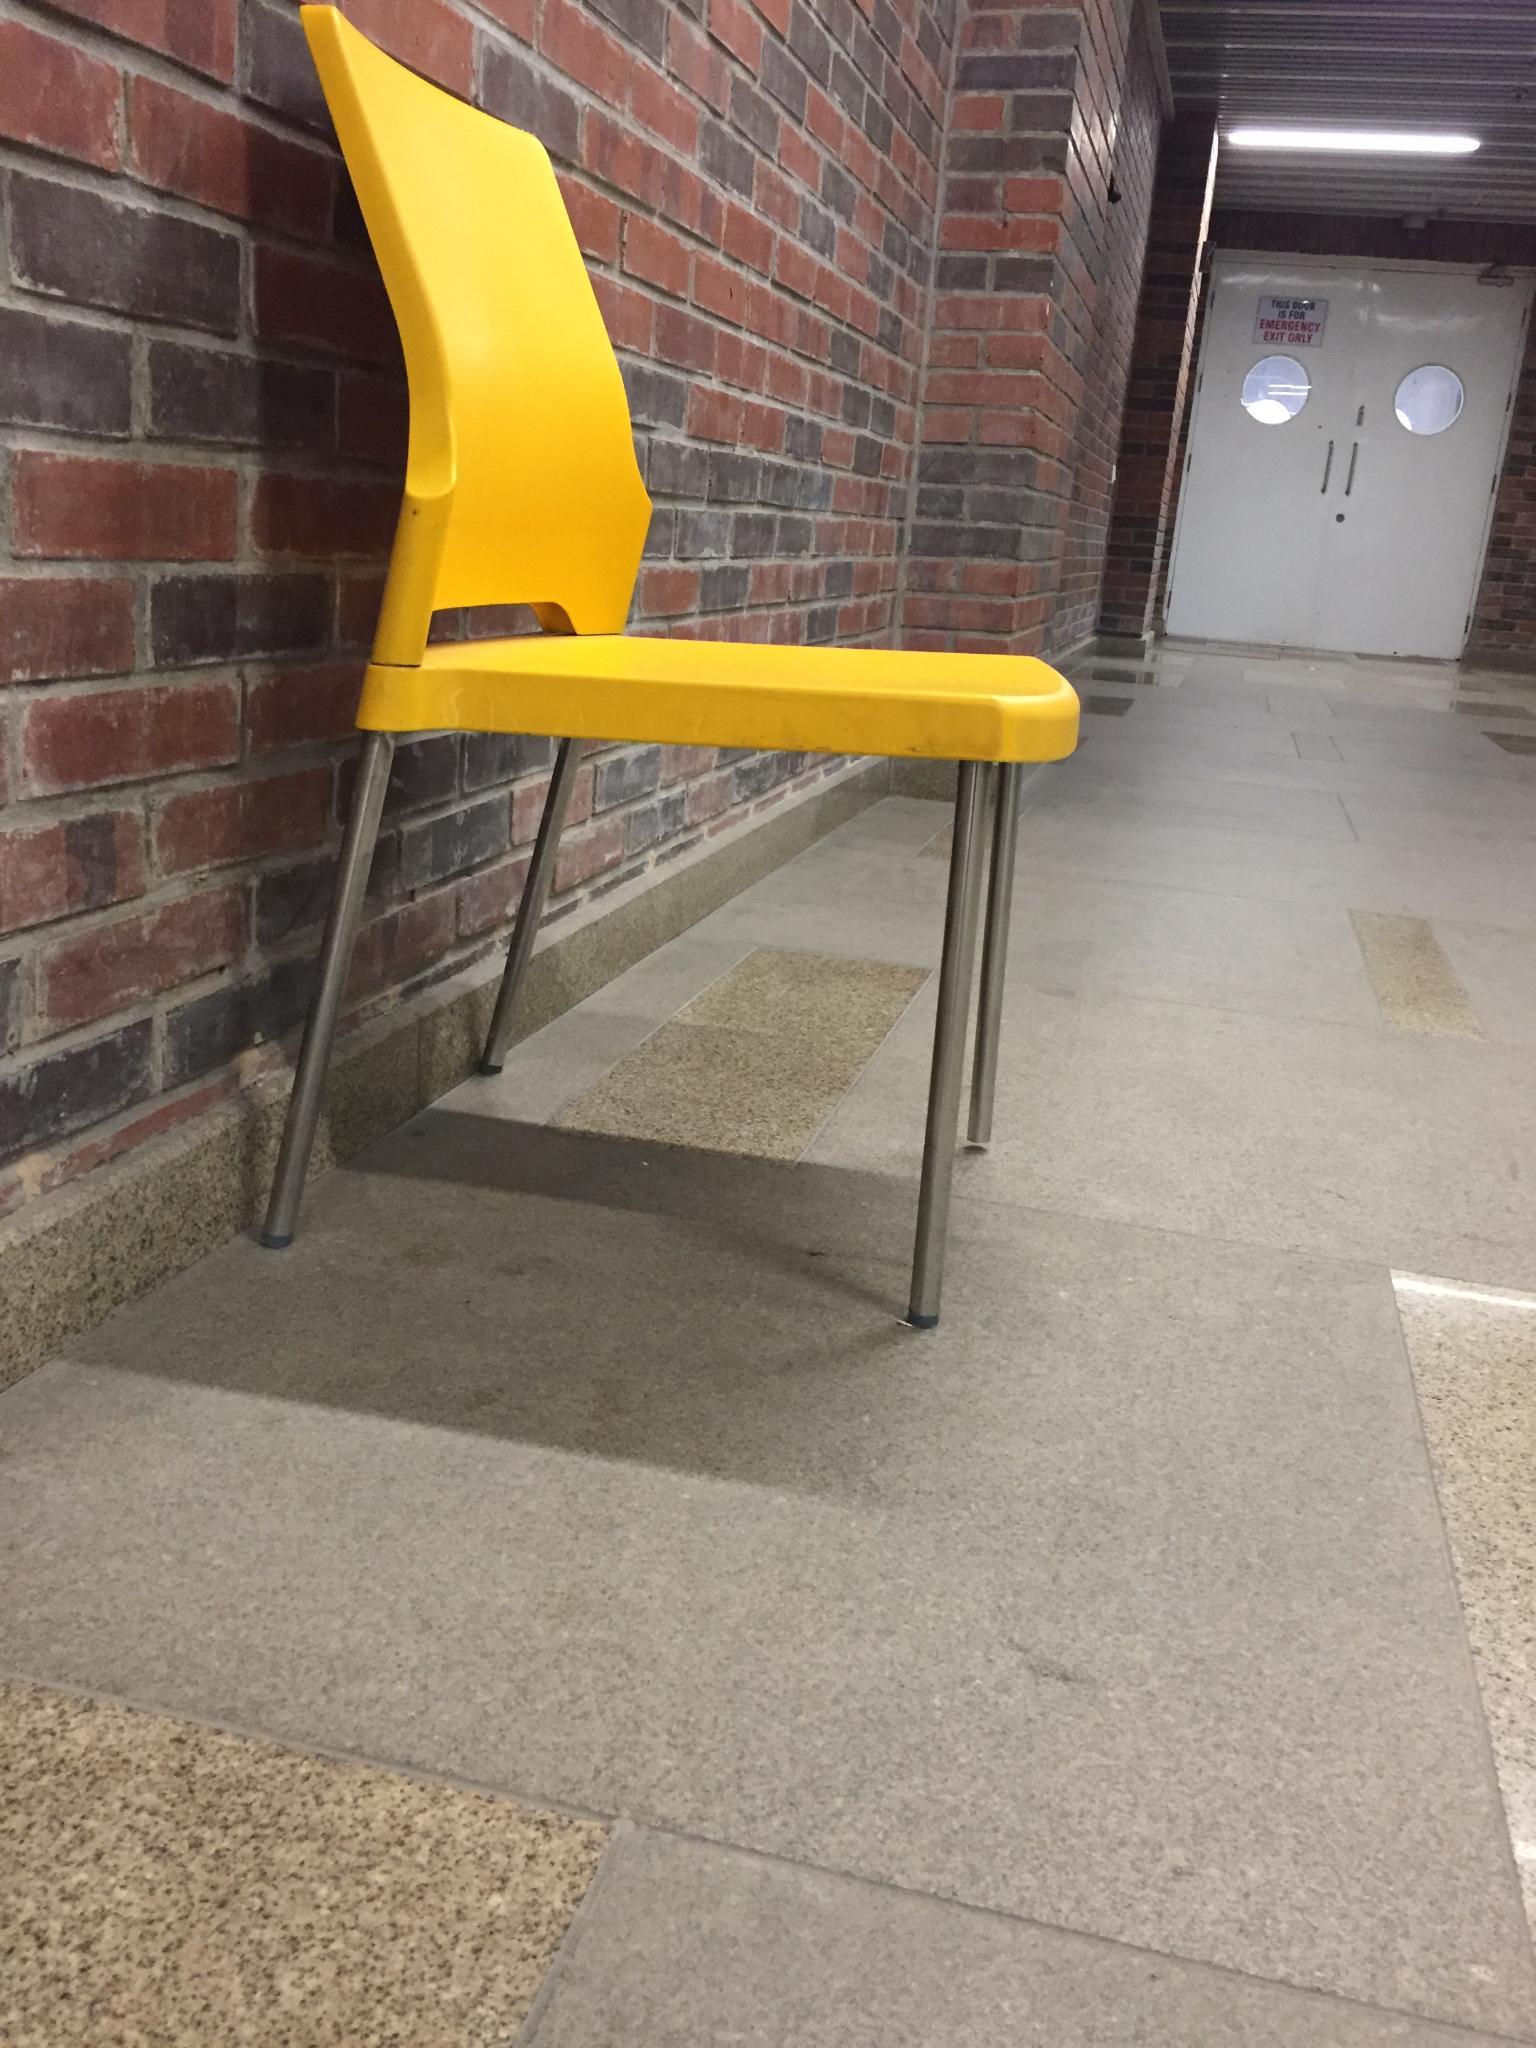chair: (257, 3, 1083, 1329)
